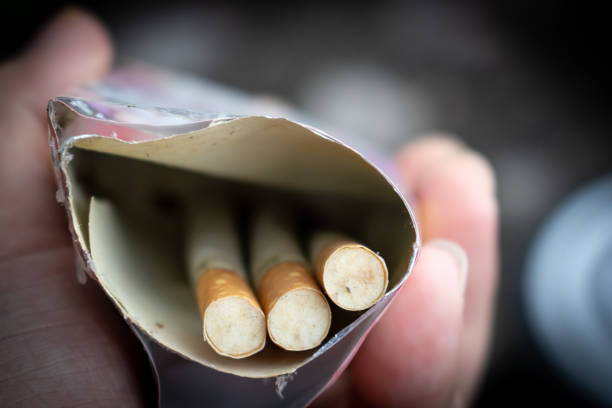cigarette: (45, 61, 420, 408), (182, 197, 270, 360), (244, 210, 334, 354), (306, 231, 390, 312)
